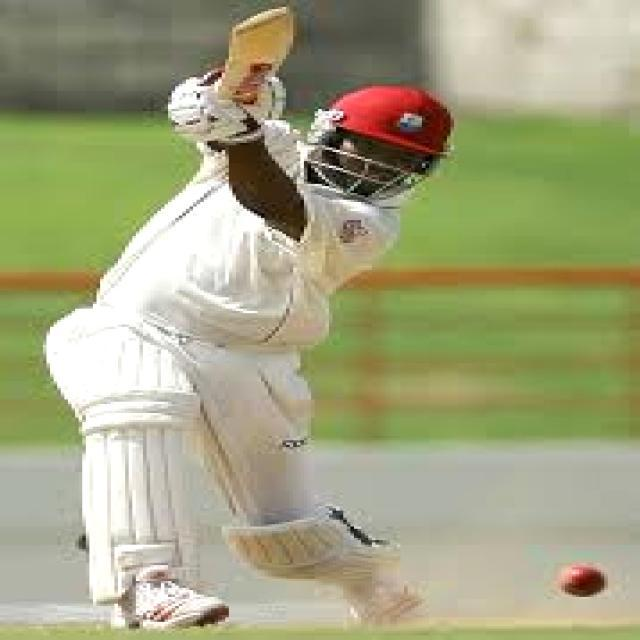bat: (213, 0, 297, 106)
toe: (224, 3, 283, 38)
